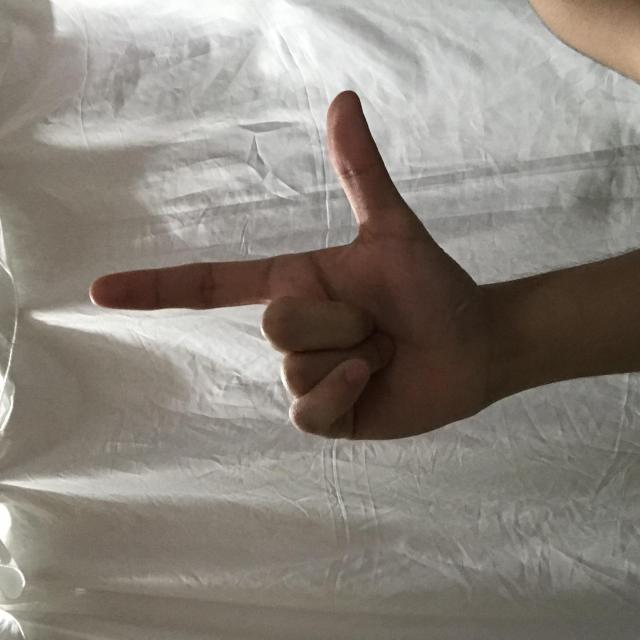L: (199, 89, 547, 494)
